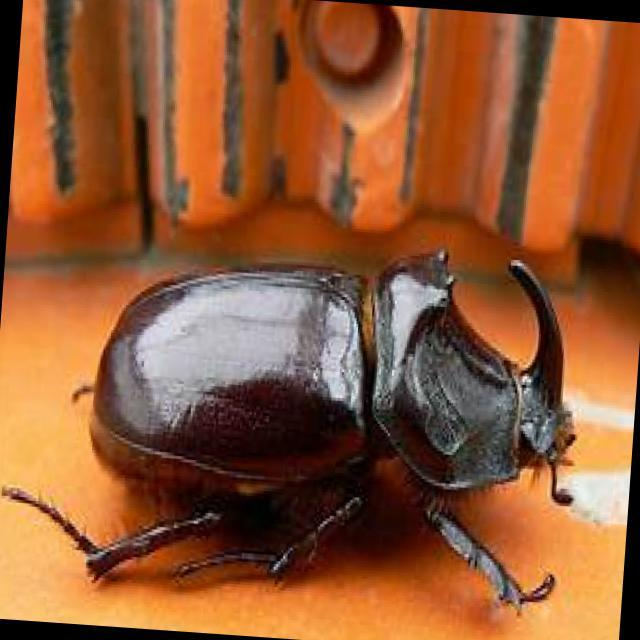Rhino-beetle: (70, 236, 602, 618)
